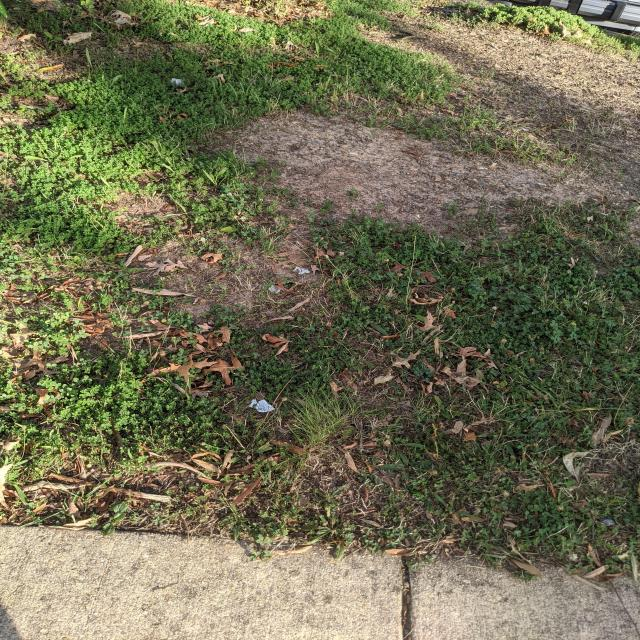litter: (248, 397, 277, 415), (294, 262, 312, 277), (263, 283, 284, 295), (168, 75, 188, 87)
